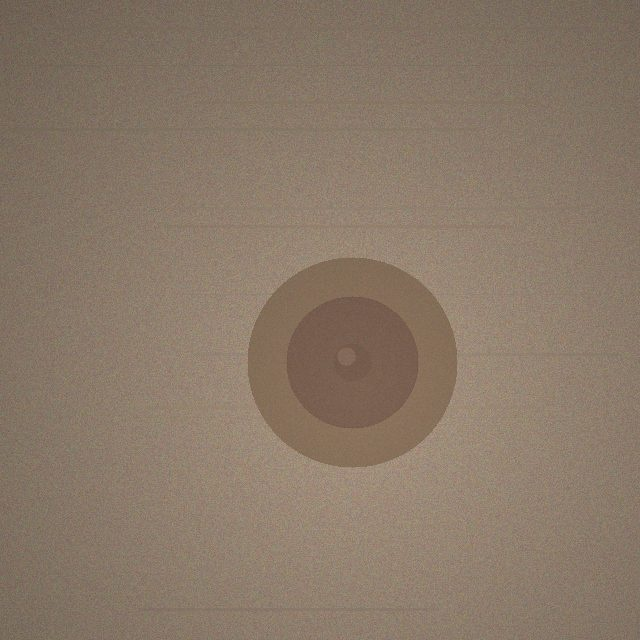good: (247, 257, 457, 467)
